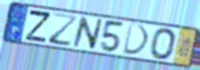5: (98, 19, 129, 54)
D: (122, 22, 152, 57)
N: (71, 15, 104, 52)
O: (149, 27, 178, 61)
Z: (47, 12, 79, 49), (24, 8, 53, 44)
